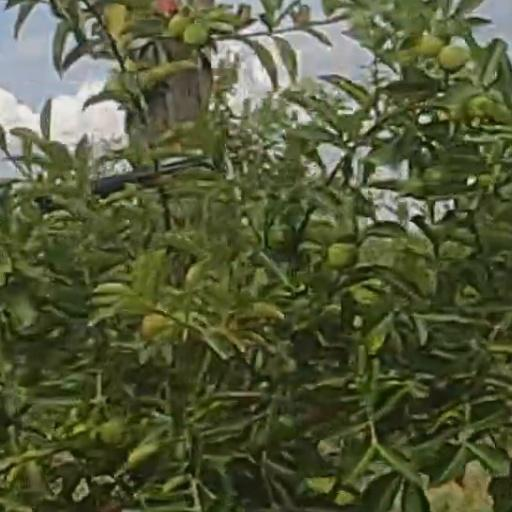acerola: (438, 45, 468, 75), (328, 244, 357, 268), (152, 1, 179, 19), (184, 23, 205, 45), (417, 36, 441, 55)
